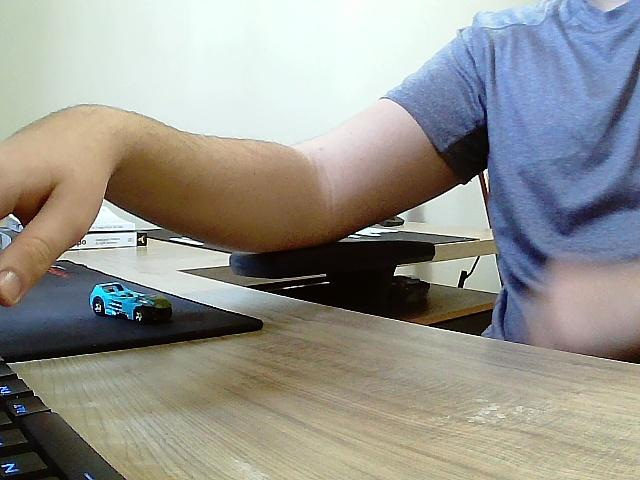Carro: (89, 283, 172, 322)
